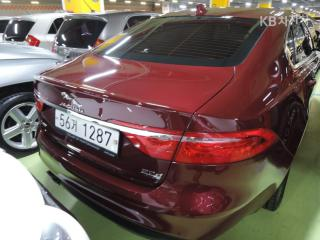1: (81, 122, 90, 138)
2: (88, 124, 96, 141)
5: (59, 112, 65, 127)
6: (64, 116, 72, 130)
7: (104, 130, 113, 147)
8: (96, 127, 104, 144)
거: (71, 118, 80, 133)
